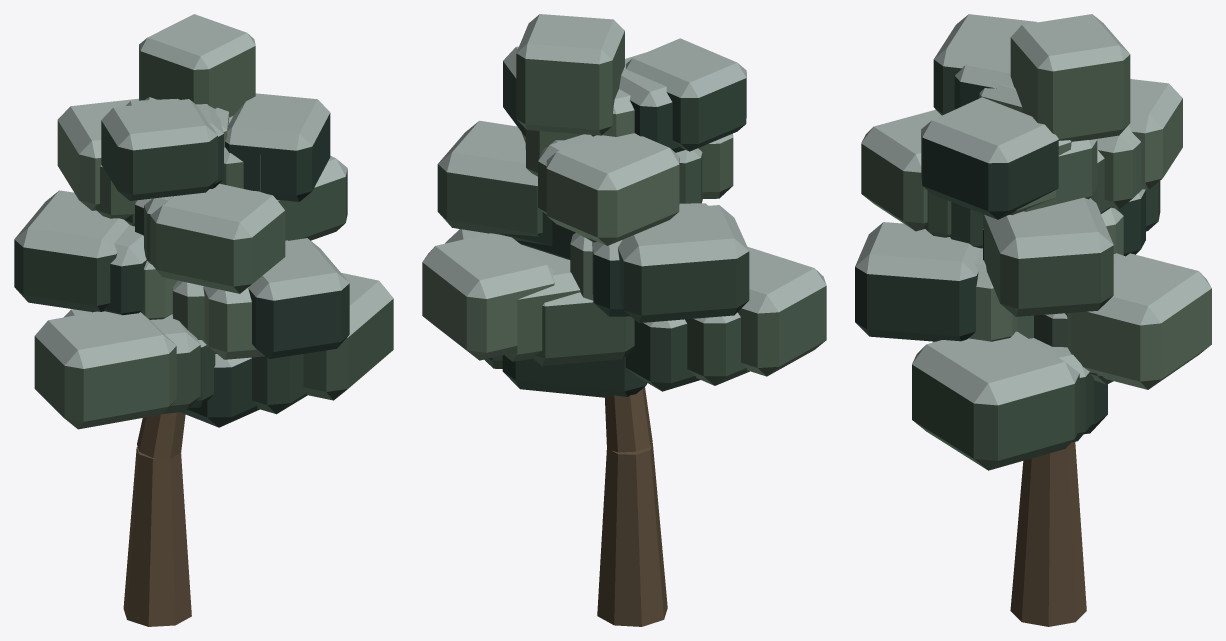
File: juniper_ancient_winter_2_picked.glb
The picture shows the model from 3 angles, left to right: view 1: azimuth 30°, elevation 25°; view 2: azimuth 150°, elevation 25°; view 3: azimuth 270°, elevation 25°; orthographic projection. The views are drawn at different scales.
Visible parts, largest first — view 1: juniper_ancient_winter_2_picked; view 2: juniper_ancient_winter_2_picked; view 3: juniper_ancient_winter_2_picked.
Part boxes in pixels (box(x1,y1,x2,y2)): juniper_ancient_winter_2_picked: box(14, 14, 393, 626); juniper_ancient_winter_2_picked: box(422, 14, 826, 626); juniper_ancient_winter_2_picked: box(855, 14, 1211, 626).
Bounding box in the file's own units: 10.38 × 16 × 8.6.
